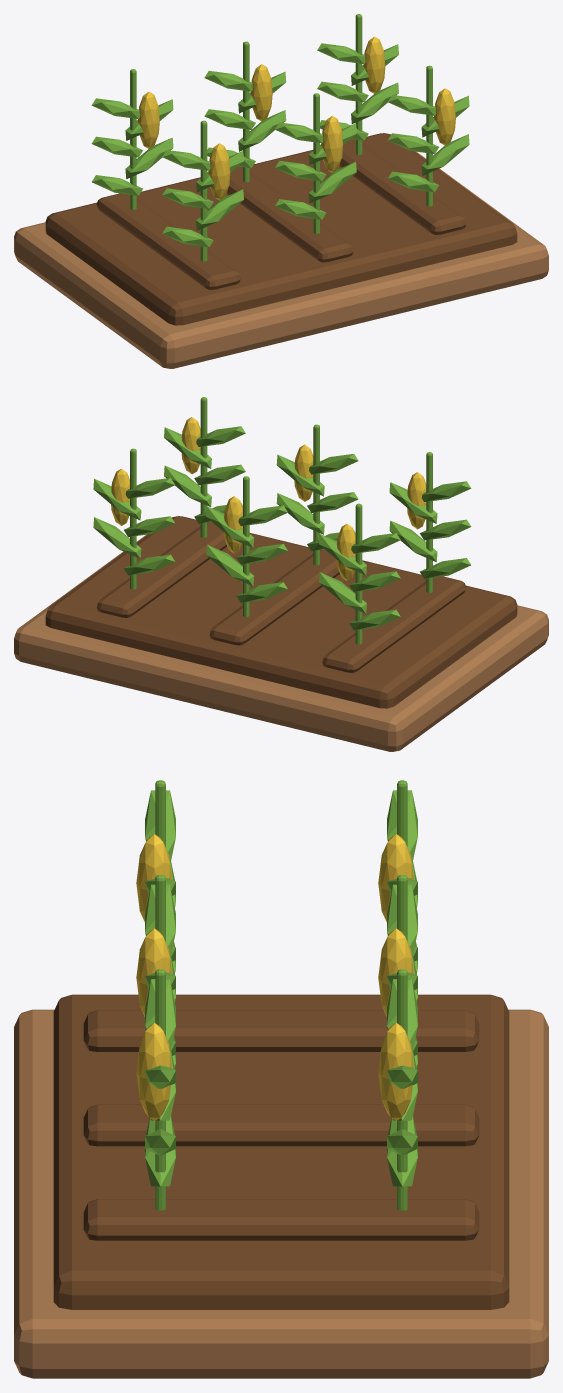
File: plot-corn.glb
3 views of the same model, one above another, from view 1: azimuth 30°, elevation 25°; view 2: azimuth 150°, elevation 25°; view 3: azimuth 270°, elevation 25° (orthographic). The views are drawn at different scales.
Visible parts, largest first — view 1: plot_soil, plot_border, plot_ridge, plot_ridge.001, plot_ridge.002, corn_cob, corn_cob.003, corn_cob.002, corn_cob.005, corn_cob.001, corn_cob.004, corn_stalk (+27 smaller); view 2: plot_soil, plot_border, plot_ridge, plot_ridge.001, plot_ridge.002, corn_leaf.016, corn_leaf.006, corn_stalk.001, corn_leaf.026, corn_stalk.004, corn_leaf.021, corn_leaf.001 (+33 smaller); view 3: plot_soil, plot_border, plot_ridge.002, plot_ridge.001, plot_ridge, corn_cob.005, corn_cob.004, corn_cob.002, corn_cob.001, corn_cob.003, corn_cob, corn_stalk.004 (+9 smaller).
Part boxes in pixels (box(x1,y1,x2,y2)): plot_soil: box(45, 133, 517, 325); plot_border: box(14, 151, 548, 368); plot_ridge: box(96, 193, 240, 289); plot_ridge.001: box(226, 166, 353, 262); plot_ridge.002: box(339, 139, 466, 234); corn_cob: box(208, 143, 230, 200); corn_cob.003: box(250, 64, 272, 121); corn_cob.002: box(321, 115, 342, 172); corn_cob.005: box(363, 36, 385, 93); corn_cob.001: box(138, 92, 159, 148); corn_cob.004: box(434, 88, 455, 145); corn_stalk: box(200, 120, 207, 261); plot_soil: box(45, 516, 517, 708); plot_border: box(14, 534, 548, 751); plot_ridge: box(322, 576, 466, 672); plot_ridge.001: box(209, 549, 339, 645); plot_ridge.002: box(96, 522, 226, 617); corn_leaf.016: box(206, 544, 254, 585); corn_leaf.006: box(319, 572, 366, 613); corn_stalk.001: box(355, 503, 362, 644); corn_leaf.026: box(93, 517, 141, 558); corn_stalk.004: box(200, 397, 207, 537); corn_leaf.021: box(164, 465, 211, 506); corn_leaf.001: box(389, 520, 437, 562); plot_soil: box(53, 994, 509, 1309); plot_border: box(14, 1009, 548, 1378); plot_ridge.002: box(83, 1199, 479, 1240); plot_ridge.001: box(83, 1104, 479, 1146); plot_ridge: box(83, 1010, 479, 1051); corn_cob.005: box(378, 1023, 413, 1121); corn_cob.004: box(136, 1023, 171, 1120); corn_cob.002: box(136, 928, 171, 1016); corn_cob.001: box(378, 834, 413, 922); corn_cob.003: box(378, 928, 413, 1016); corn_cob: box(136, 834, 171, 922); corn_stalk.004: box(155, 969, 165, 1210).
Size of the model in its own units: 1.65 by 0.825 by 1.15.
